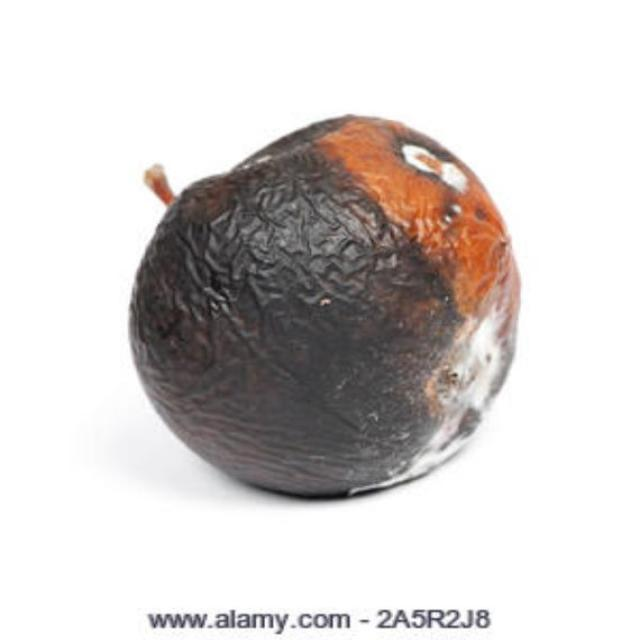Rotten Apple: (99, 78, 535, 543)
